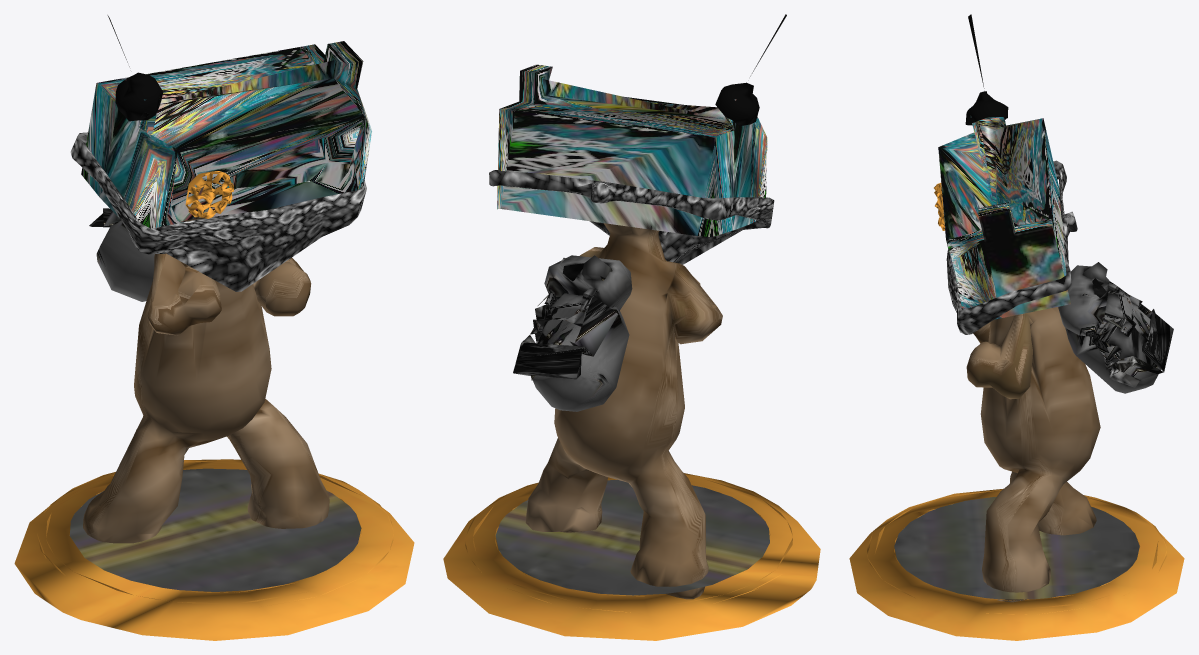
3 renders of one model, left to right at view 1: azimuth 30°, elevation 25°; view 2: azimuth 150°, elevation 25°; view 3: azimuth 270°, elevation 25°, orthographic. The views are drawn at different scales.
Size of the model in its own units: 1.45 by 2.36 by 1.43.
7 materials, 6 textured.
